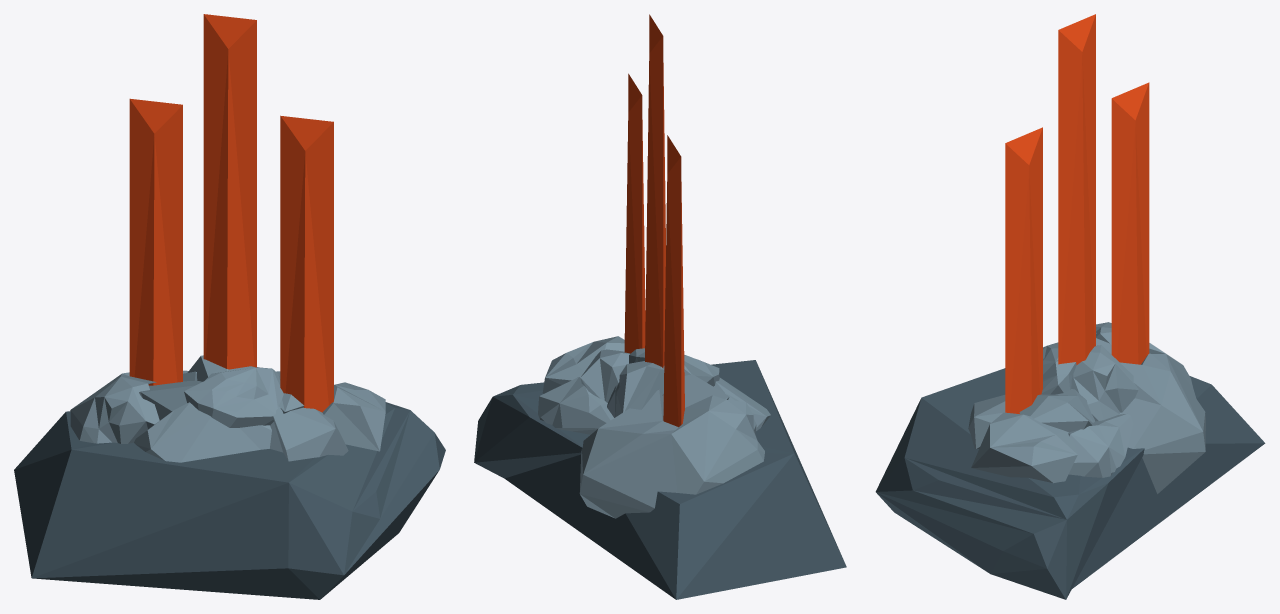
The model's file is shrine.glb.
The picture shows the model from 3 angles, left to right: view 1: azimuth 30°, elevation 25°; view 2: azimuth 150°, elevation 25°; view 3: azimuth 270°, elevation 25°; orthographic projection. The views are drawn at different scales.
Parts seen in each view (by area): view 1: Node; view 2: Node; view 3: Node.
Boxes of the visible parts, bbox=[...] form: Node: bbox=[14, 14, 445, 599]; Node: bbox=[474, 14, 846, 599]; Node: bbox=[875, 14, 1265, 599].
Size of the model in its own units: 1.29 by 1.59 by 1.14.
